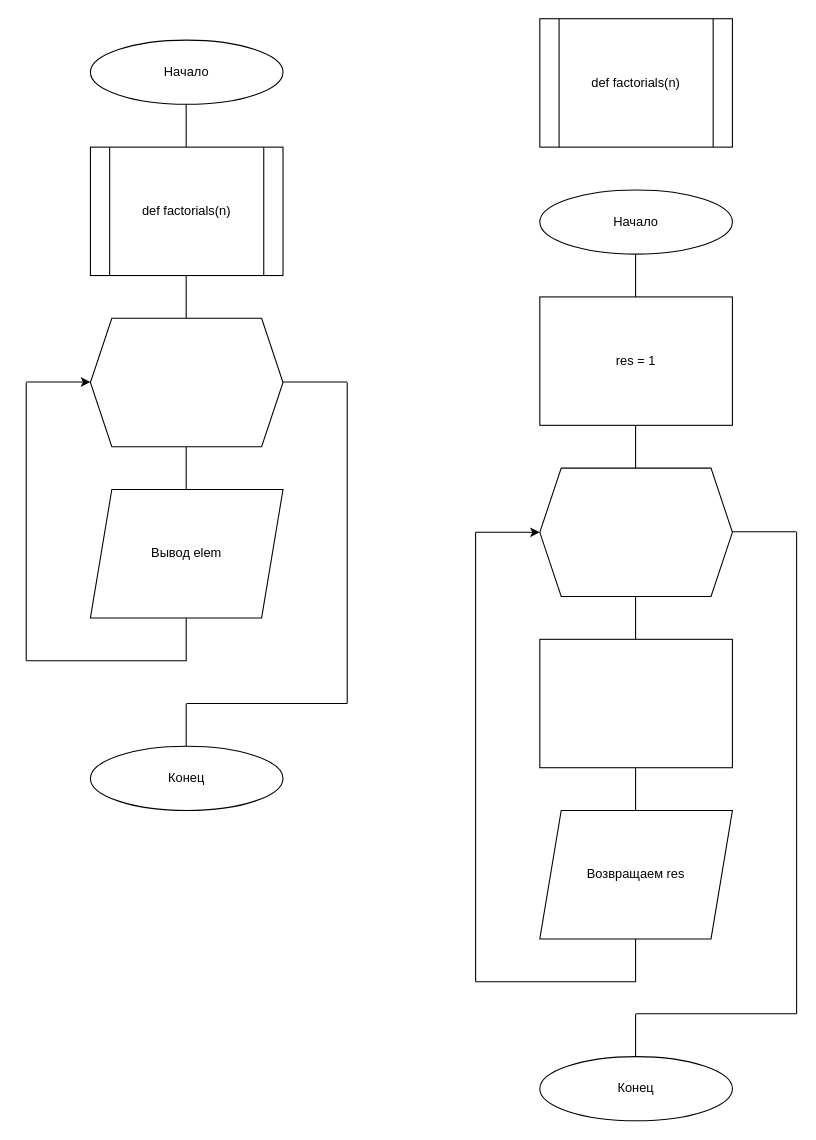
Some shapes in this 816 by 1140 pixel diagram are drawn without their labels. Here are the shapes that lost their labels. From the top down, the centre of each, then its label:
At [186,382]: "Перебор elem по factorials(n)".
At [635,532]: "for num in range(1, n + 1)".
At [635,703]: "res *= num".
